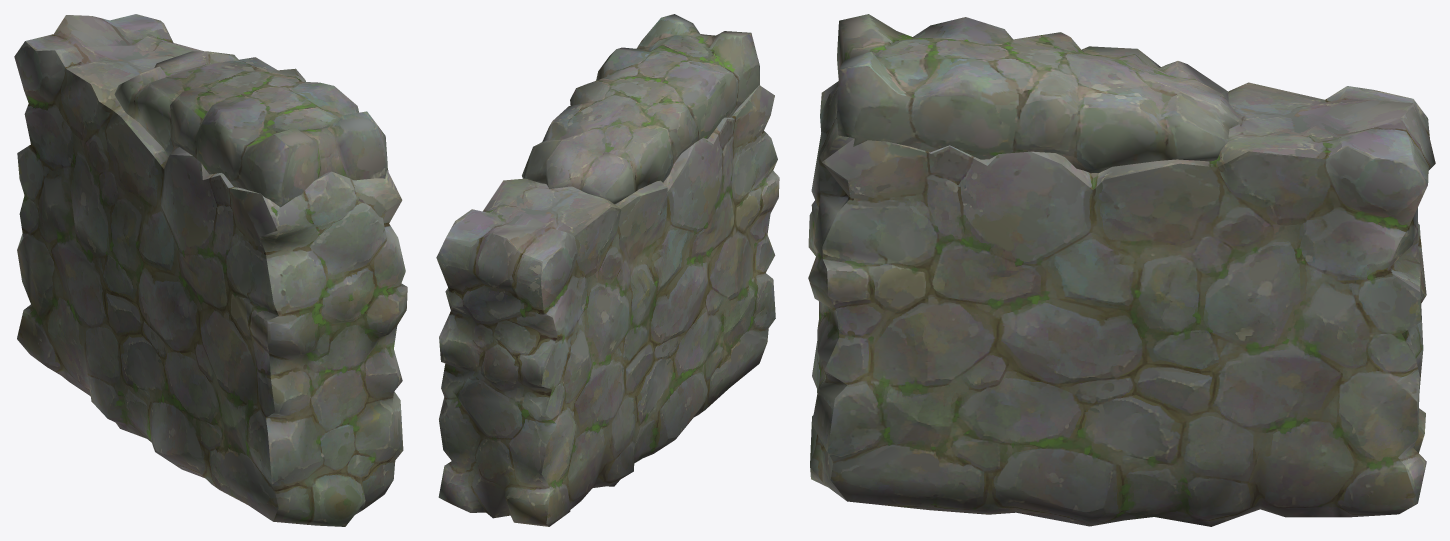
Rendered from Area_Common_Build_RockWall_A_02.fbx.
3 renders of one model, left to right at view 1: azimuth 30°, elevation 25°; view 2: azimuth 150°, elevation 25°; view 3: azimuth 270°, elevation 25°, orthographic. The views are drawn at different scales.
Parts seen in each view (by area): view 1: Area_Common_Build_RockWall_A_02_Lod0; view 2: Area_Common_Build_RockWall_A_02_Lod0; view 3: Area_Common_Build_RockWall_A_02_Lod0.
Boxes of the visible parts, x1,y1,x2,y2 form: Area_Common_Build_RockWall_A_02_Lod0: [14, 14, 407, 526]; Area_Common_Build_RockWall_A_02_Lod0: [436, 14, 779, 526]; Area_Common_Build_RockWall_A_02_Lod0: [808, 14, 1435, 526].
Bounding box in the file's own units: 1.38 × 3.81 × 4.65.
Materials: 1 (1 with a texture image).
